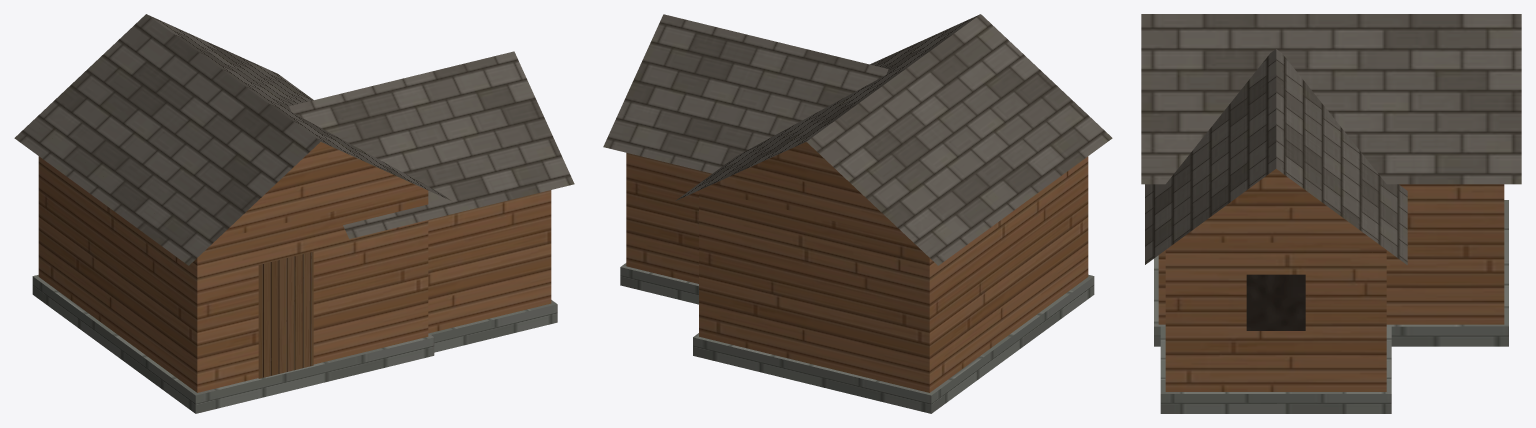
The model's file is ae_sand_wood_medium_l_lod2.glb.
The picture shows the model from 3 angles, left to right: view 1: azimuth 30°, elevation 25°; view 2: azimuth 150°, elevation 25°; view 3: azimuth 270°, elevation 25°; orthographic projection. The views are drawn at different scales.
Parts seen in each view (by area): view 1: ae_sand_wood_medium_l_lod2; view 2: ae_sand_wood_medium_l_lod2; view 3: ae_sand_wood_medium_l_lod2.
Part boxes in pixels (<box>): ae_sand_wood_medium_l_lod2: <box>14,14,574,413</box>; ae_sand_wood_medium_l_lod2: <box>603,14,1112,413</box>; ae_sand_wood_medium_l_lod2: <box>1141,14,1521,413</box>.
Size of the model in its own units: 7.05 by 4.3 by 5.5.
Materials: 1 (1 with a texture image).
